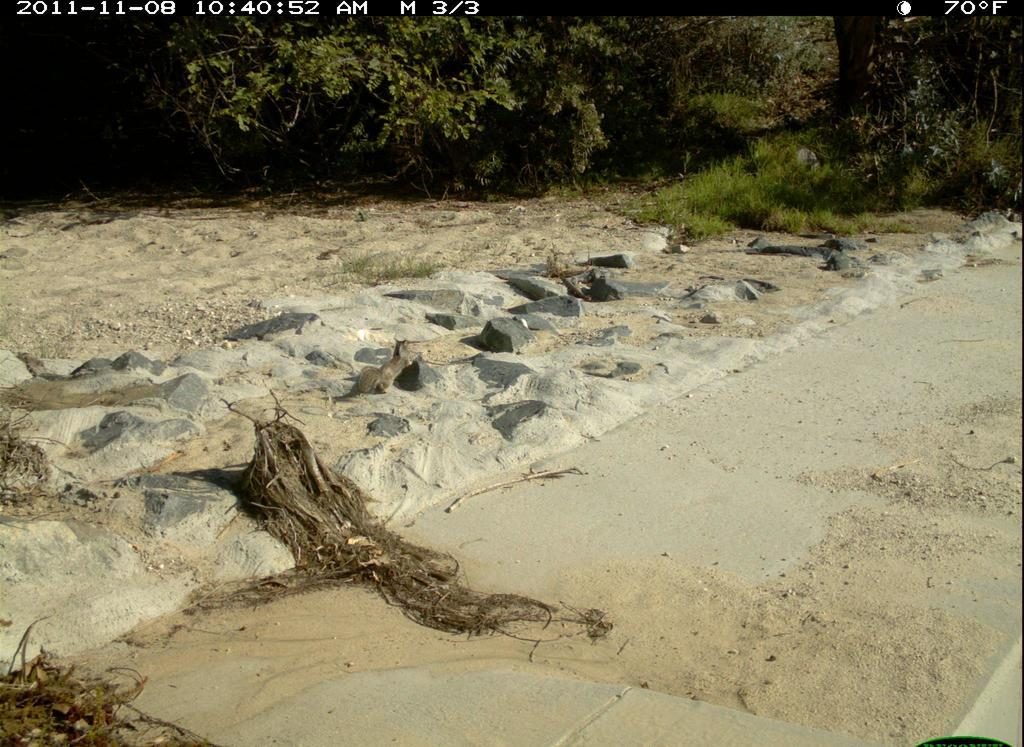squirrel: (347, 337, 428, 408)
